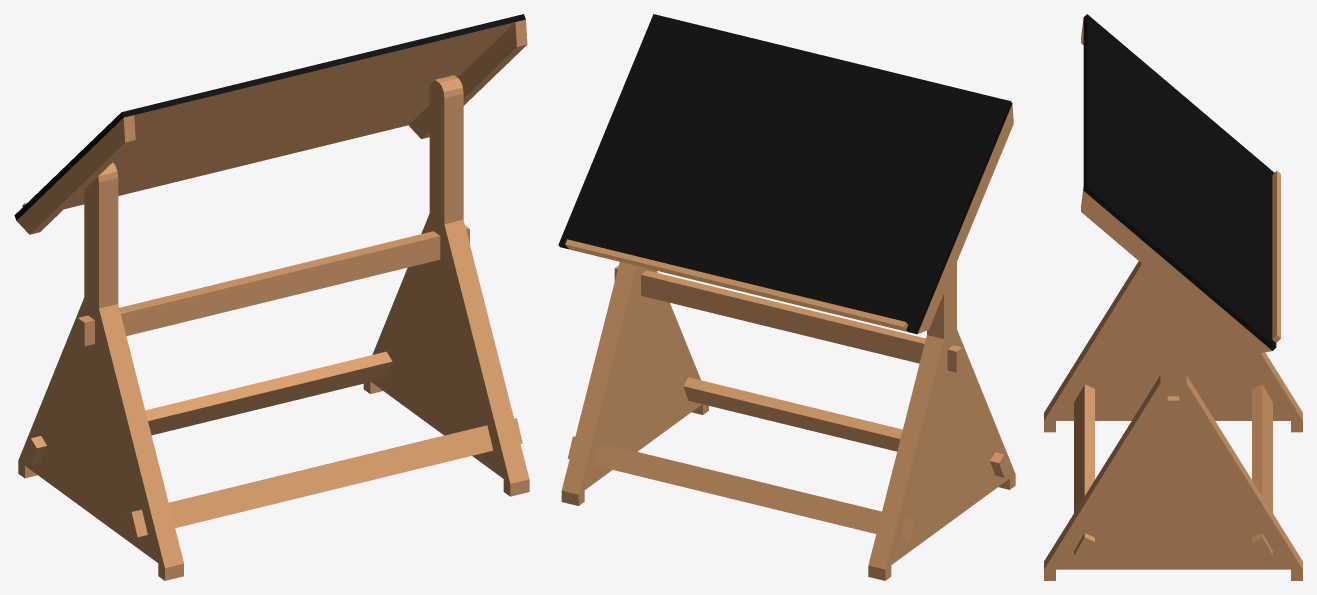
Rendered from drawing_desk.glb.
3 views of the same model, side by side, from view 1: azimuth 30°, elevation 25°; view 2: azimuth 150°, elevation 25°; view 3: azimuth 270°, elevation 25° (orthographic). The views are drawn at different scales.
Visible parts, largest first — view 1: Cube, Cube.002, Cube.003; view 2: Cube, Cube.003, Cube.002; view 3: Cube, Cube.003.
Part boxes in pixels (x1,y1,x2,y2): Cube: (14,14,529,580); Cube.002: (78,163,329,526); Cube.003: (218,14,527,171); Cube: (561,14,1015,580); Cube.003: (558,14,831,290); Cube.002: (830,264,960,534); Cube: (1044,14,1302,580); Cube.003: (1081,101,1280,354).
Bounding box in the file's own units: 3.17 × 3.42 × 2.
